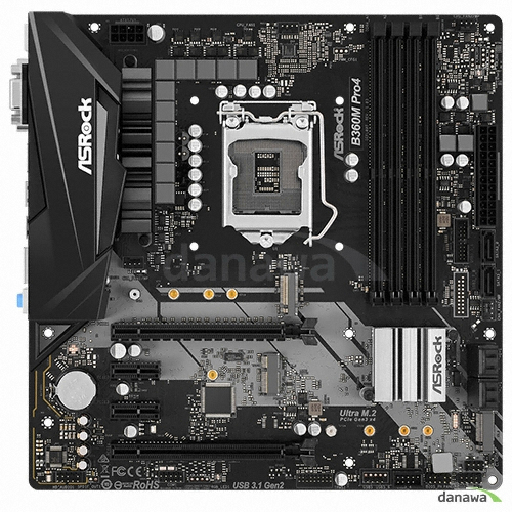CPU: (217, 97, 323, 250)
GPU: (109, 316, 321, 347), (109, 439, 323, 464)
MOTHERBOARD: (24, 9, 506, 495)
RAM: (363, 23, 445, 309)
SSD: (254, 349, 290, 399), (276, 271, 304, 319)
